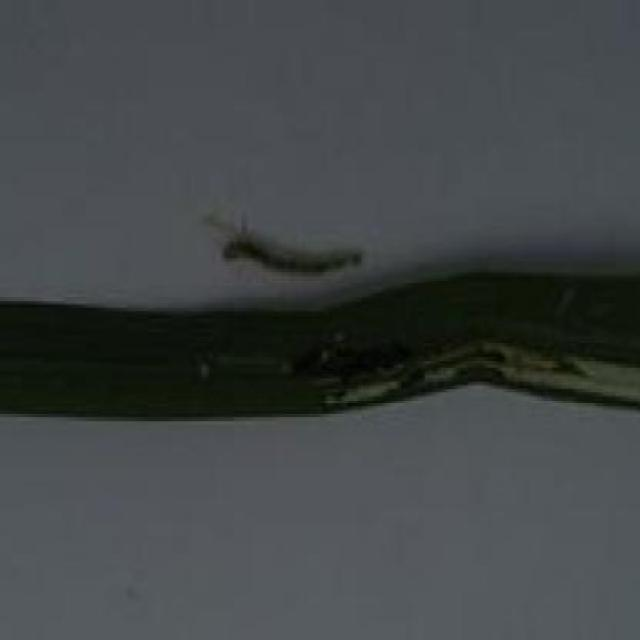leaf-folder: (204, 198, 439, 291)
